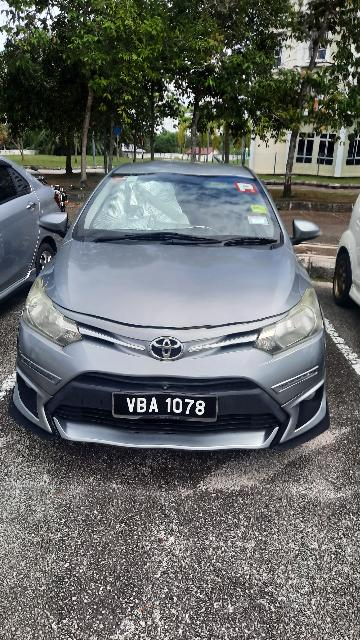License_Plate: (109, 383, 227, 429)
car: (7, 160, 334, 455)
